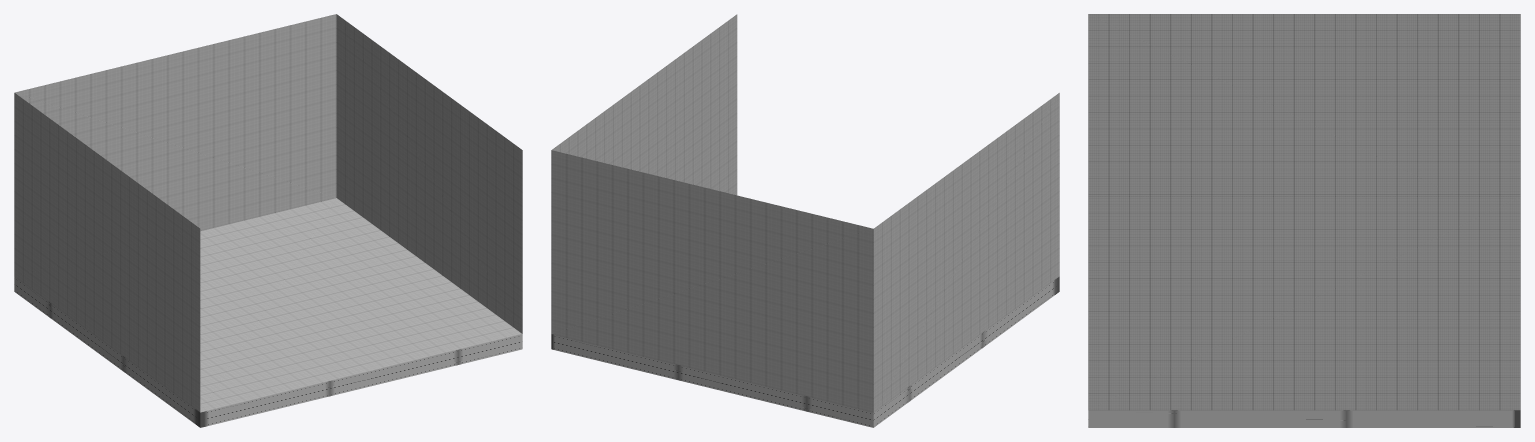
The model's file is TheGrid.fbx.
3 views of the same model, side by side, from view 1: azimuth 30°, elevation 25°; view 2: azimuth 150°, elevation 25°; view 3: azimuth 270°, elevation 25° (orthographic). The views are drawn at different scales.
Parts seen in each view (by area): view 1: Cube; view 2: Cube; view 3: Cube.
Part boxes in pixels (<box>): Cube: <box>14,14,522,427</box>; Cube: <box>551,14,1059,427</box>; Cube: <box>1088,14,1520,427</box>.
Size of the model in its own units: 22 by 13 by 22.
